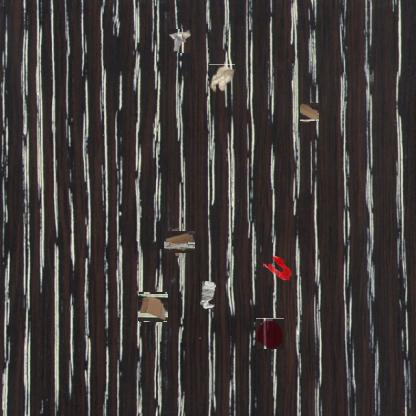dirty: (139, 293, 168, 321), (209, 64, 235, 93), (166, 229, 192, 255), (168, 29, 192, 53), (200, 281, 216, 309), (300, 102, 318, 121)
liquid: (256, 318, 284, 349), (262, 256, 292, 280)
